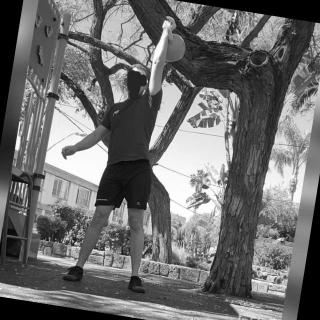kettlebell: (150, 16, 196, 74)
